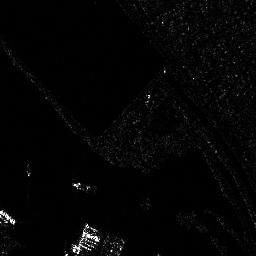ship: (70, 180, 91, 191)
